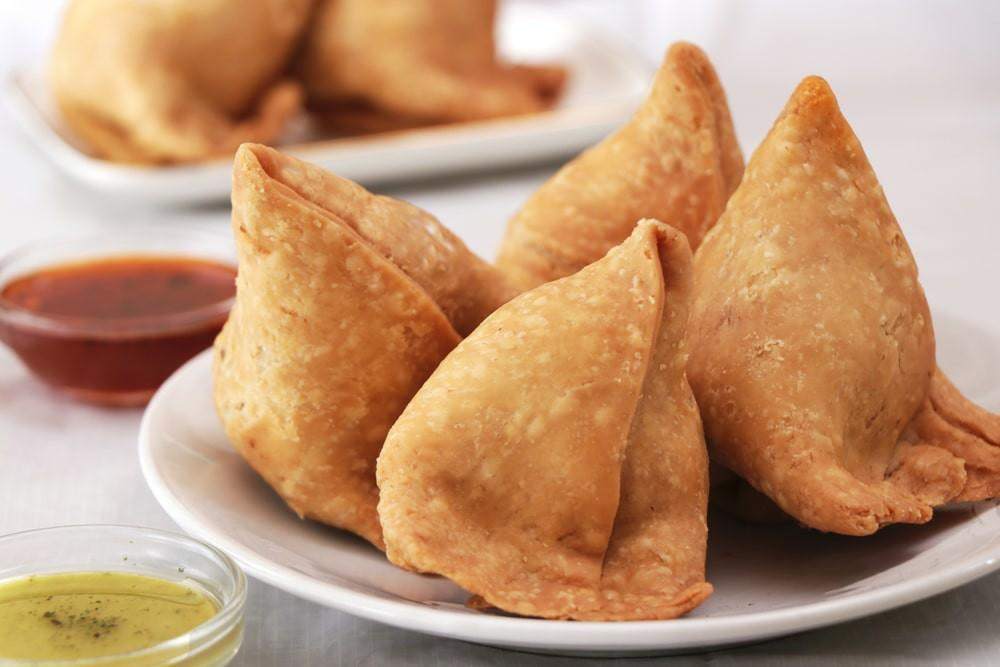Samosa: (693, 77, 999, 536), (377, 220, 711, 616), (214, 140, 495, 554)
